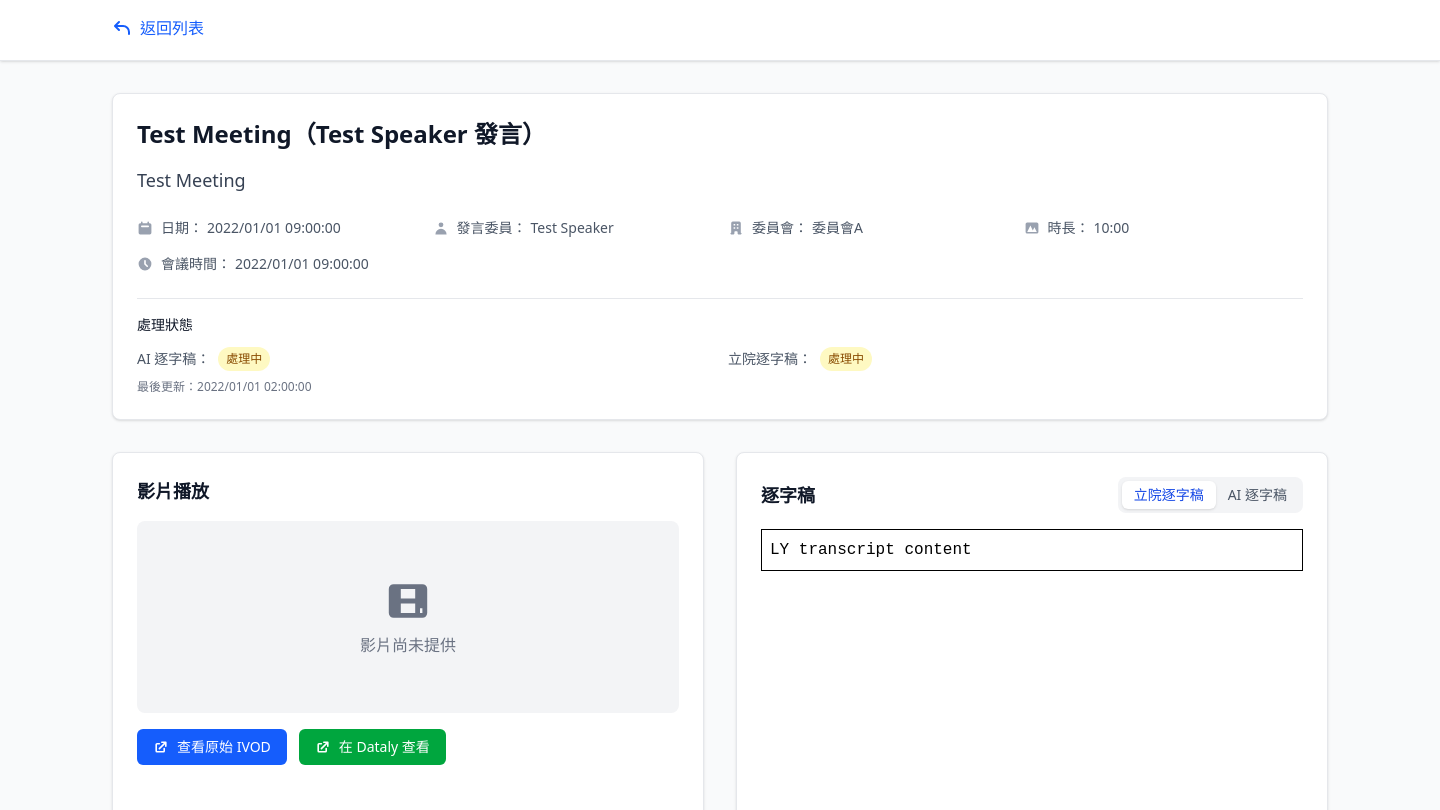
Test: IVOD Detail Page › switches between AI and LY transcripts
Check: the text "LY transcript content" is shown, box [761,529,1303,571]
Click the button "AI 逐字稿". click: {"x": 1257, "y": 495}
box: [1216,481,1299,509]
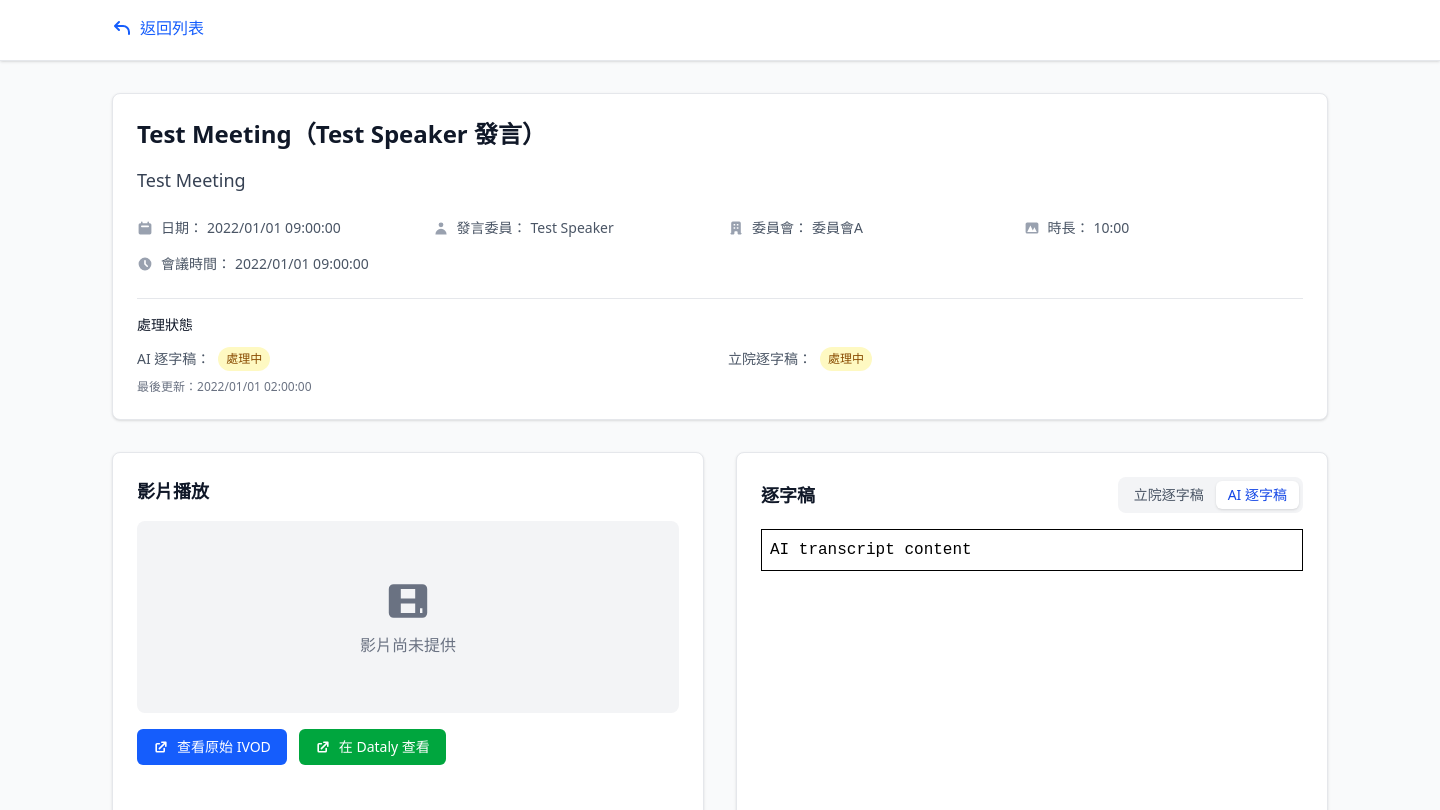
Check: the text "AI transcript content" is shown, box [761,529,1303,571]
